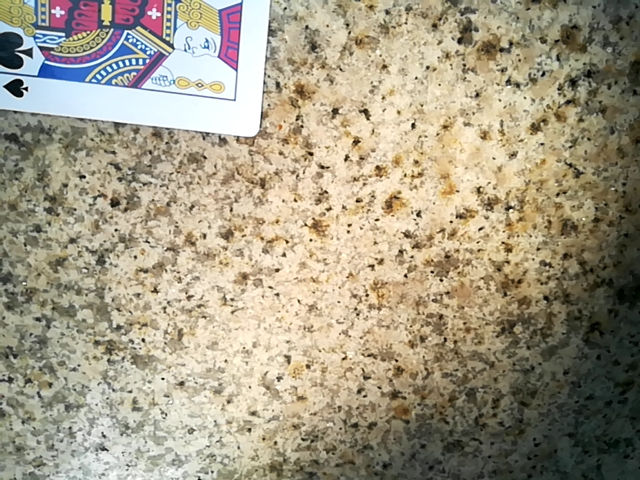ht j: (0, 0, 276, 140)
